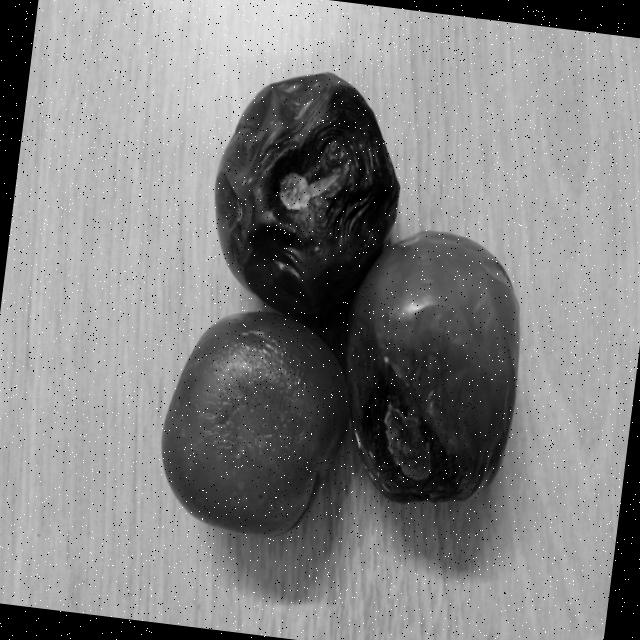Rotten: (326, 216, 534, 515), (199, 56, 414, 330)
